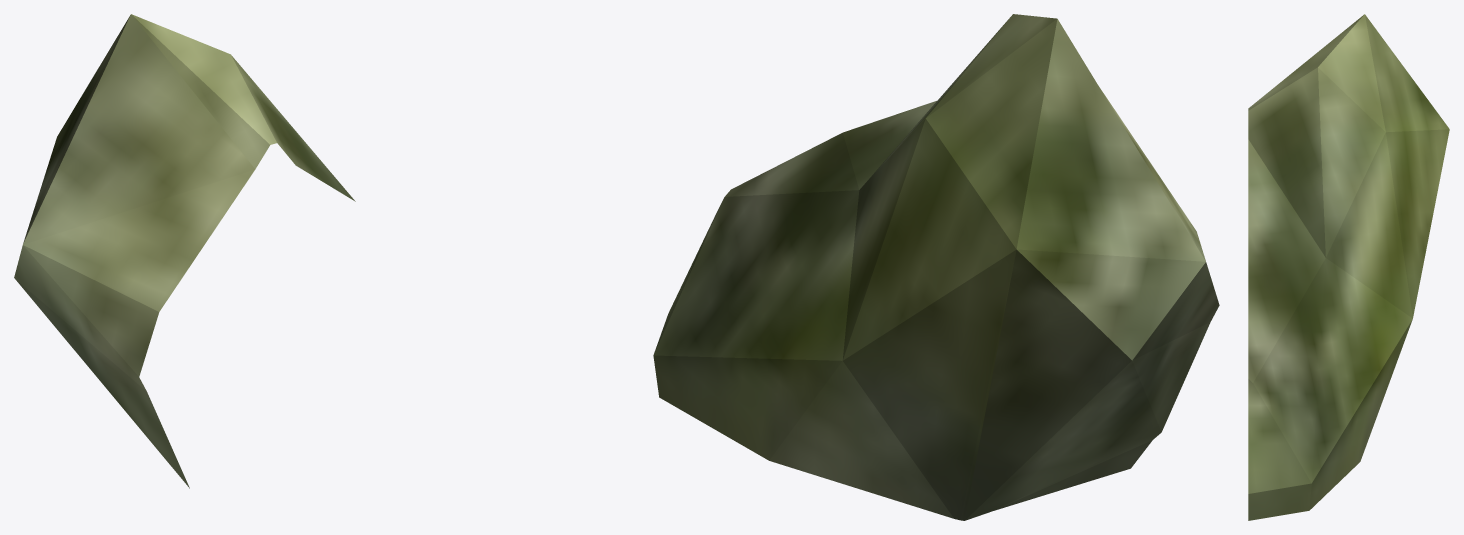
3 views of the same model, side by side, from view 1: azimuth 30°, elevation 25°; view 2: azimuth 150°, elevation 25°; view 3: azimuth 270°, elevation 25° (orthographic). The views are drawn at different scales.
Bounding box in the file's own units: 0.8782 × 0.7088 × 0.369.
Materials: 1 (1 with a texture image).
